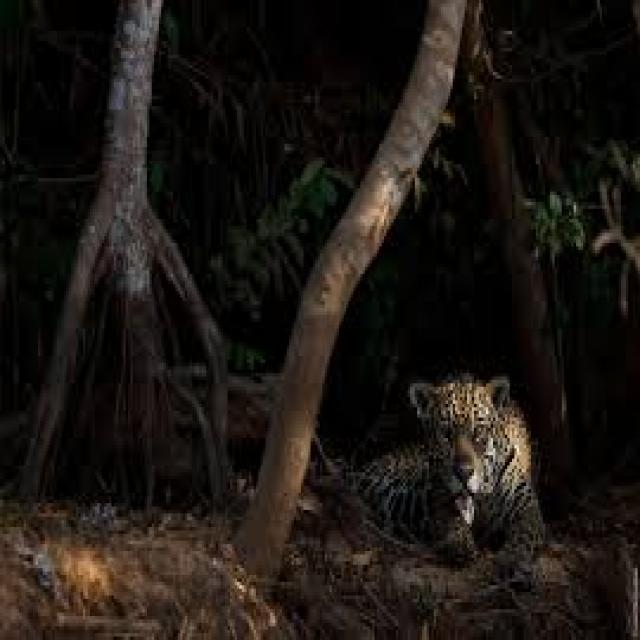Jaguar: (368, 349, 560, 558)
